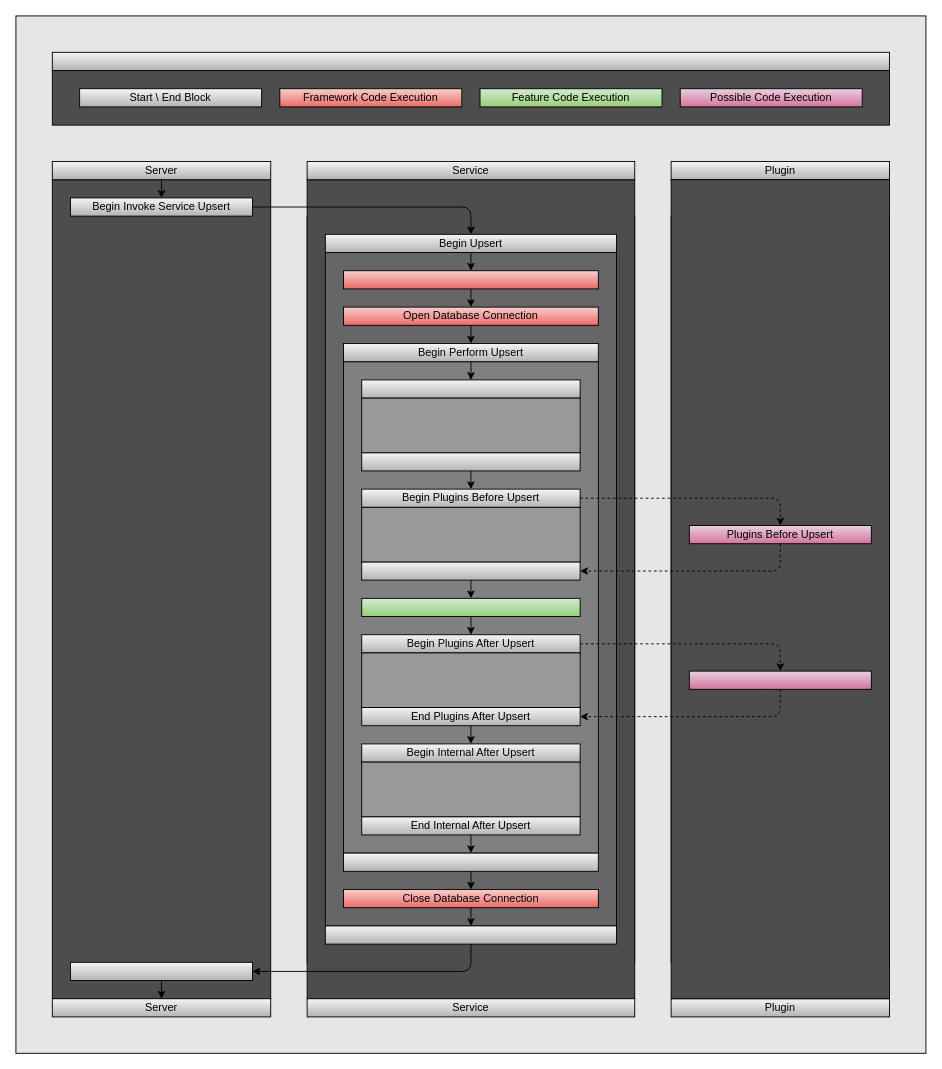
This 942x1069 diagram has some shape labels left out. Each missing label, with the box of its shape:
Begin Internal Before Upsert: (361, 379, 580, 398)
Create Data Response: (343, 270, 598, 289)
End Internal Before Upsert: (361, 452, 580, 471)
End Invoke Service Upsert: (70, 961, 253, 981)
End Perform Upsert: (343, 852, 598, 871)
End Plugins Before Upsert: (361, 561, 580, 580)
End Upsert: (324, 925, 617, 944)
Legend: (51, 51, 890, 71)
On Upsert: (361, 597, 580, 617)
Plugins After Upsert: (688, 670, 871, 689)
